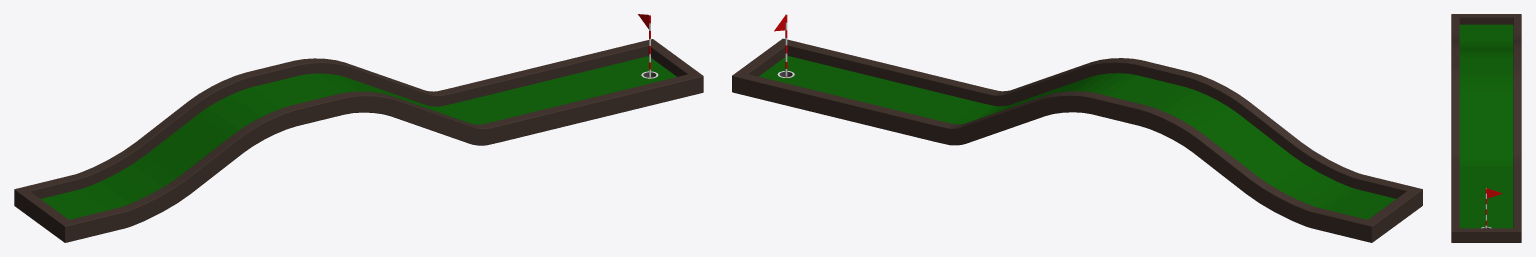
Rendered from Tutorial Course2.fbx.
3 views of the same model, side by side, from view 1: azimuth 30°, elevation 25°; view 2: azimuth 150°, elevation 25°; view 3: azimuth 270°, elevation 25° (orthographic). The views are drawn at different scales.
Visible parts, largest first — view 1: Barrier Mat, Course.001; view 2: Barrier Mat, Course.001; view 3: Course.001, Barrier Mat, Pole.
Boxes of the visible parts, x1,y1,x2,y2 form: Barrier Mat: [14, 39, 703, 242]; Course.001: [41, 56, 676, 219]; Barrier Mat: [732, 38, 1422, 242]; Course.001: [759, 55, 1395, 219]; Course.001: [1459, 24, 1513, 228]; Barrier Mat: [1451, 14, 1521, 242]; Pole: [1485, 188, 1502, 228].
Size of the model in its own units: 3556 by 487 by 492.
